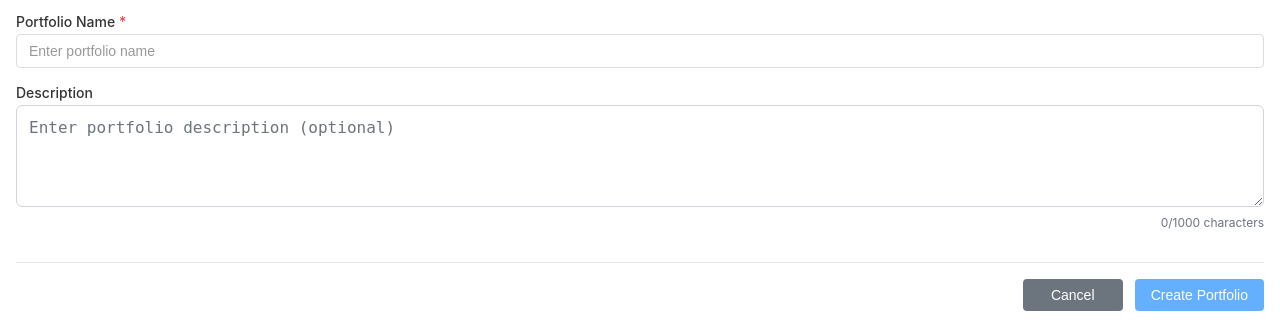
PortfolioForm › Form Validation › updates character count as user types
Type "Test description" into the text box labelled "Description".
click(640, 156); type("Test description")  # box [16,105,1264,207]
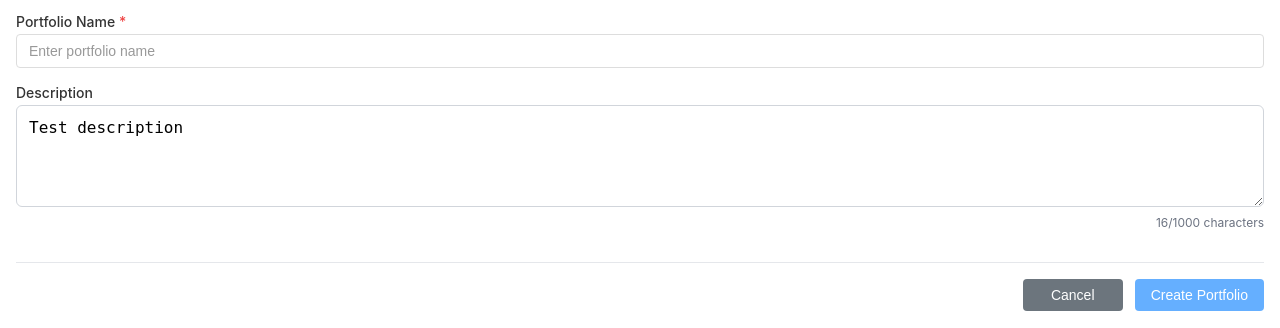
Expected: the text "16/1000 characters" is shown, [1156,215,1264,230]
